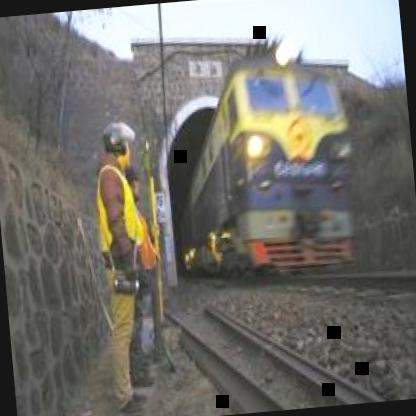helmet: (103, 118, 138, 164)
